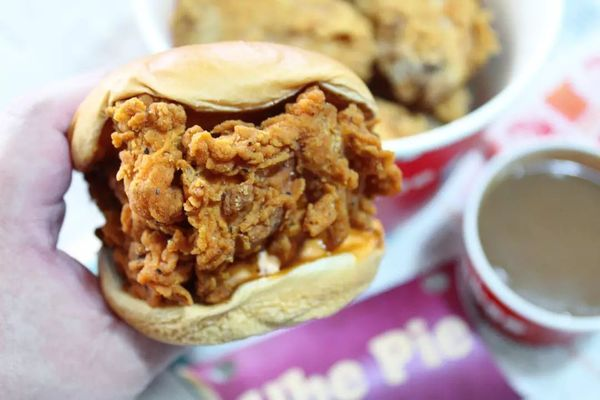soup: (65, 39, 400, 347)
